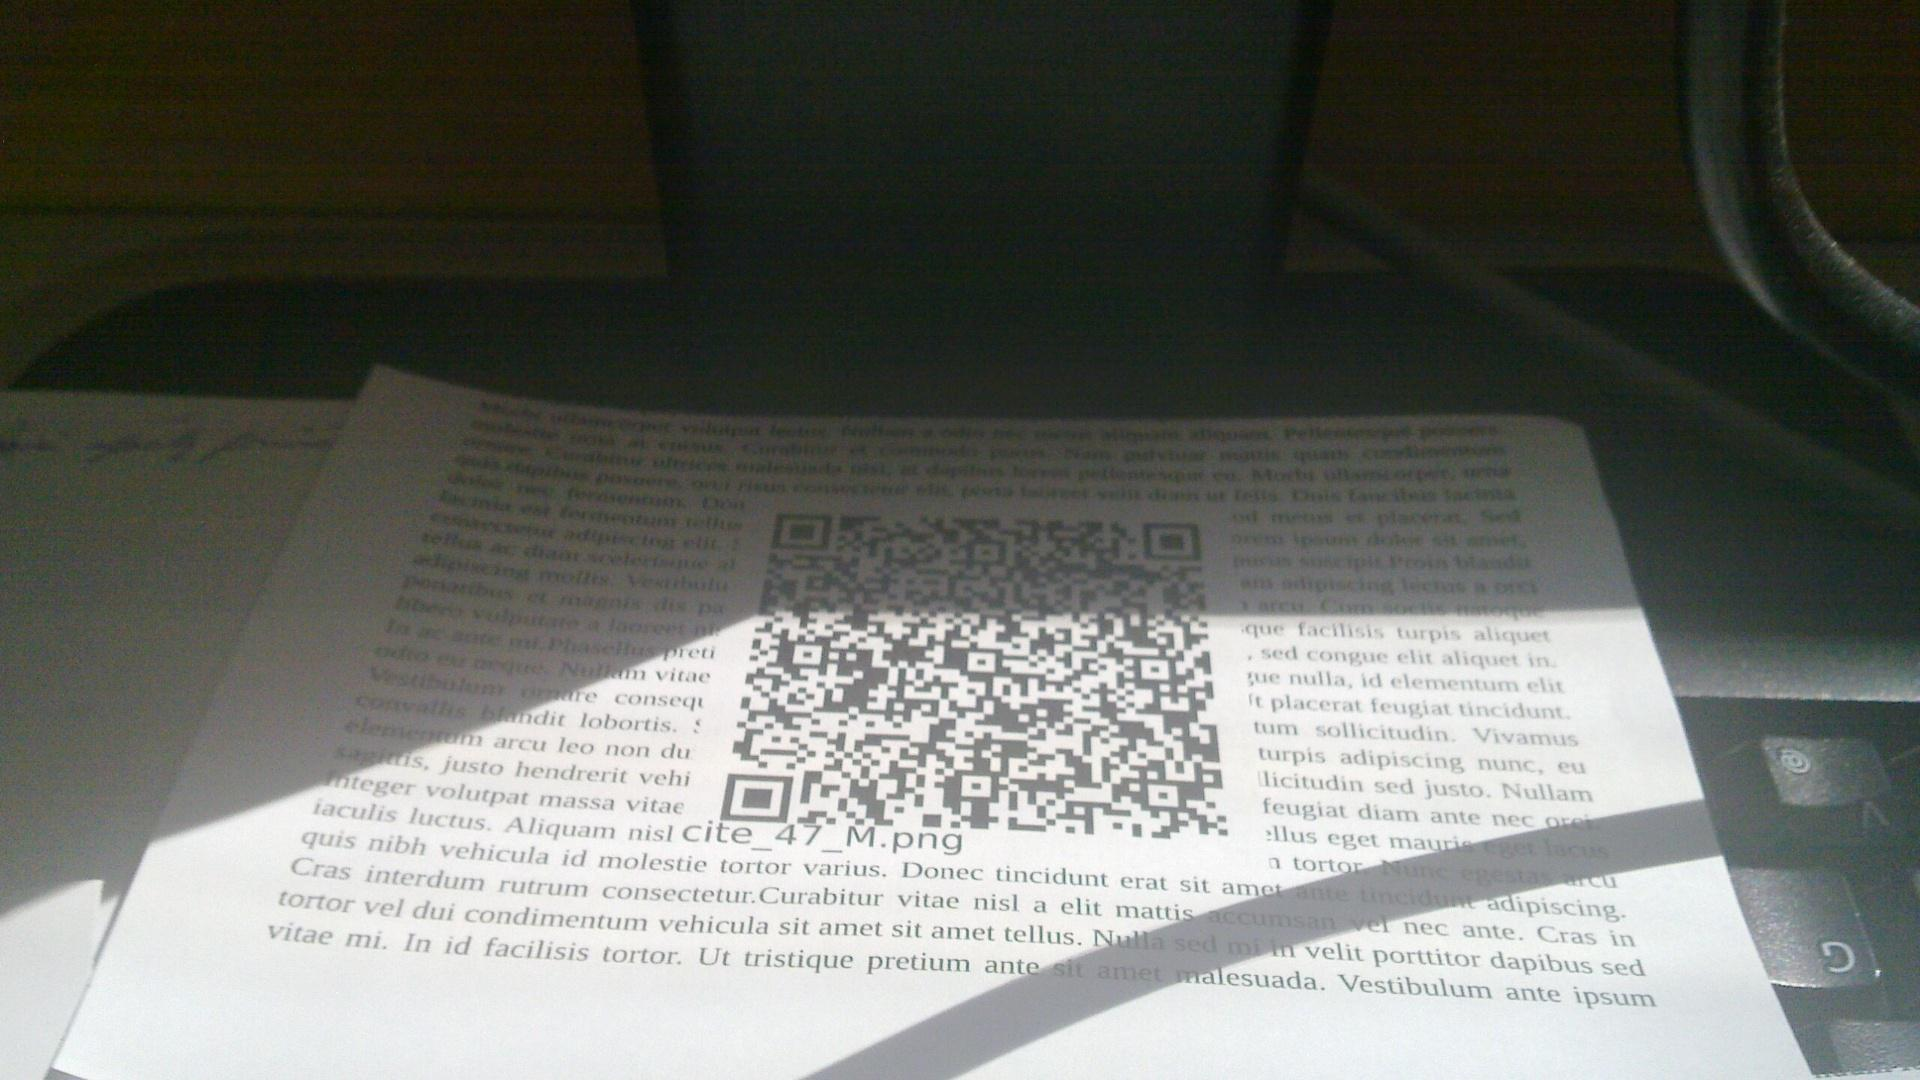Finder pattern: (720, 767, 798, 829), (1137, 516, 1205, 568), (769, 506, 839, 554)
